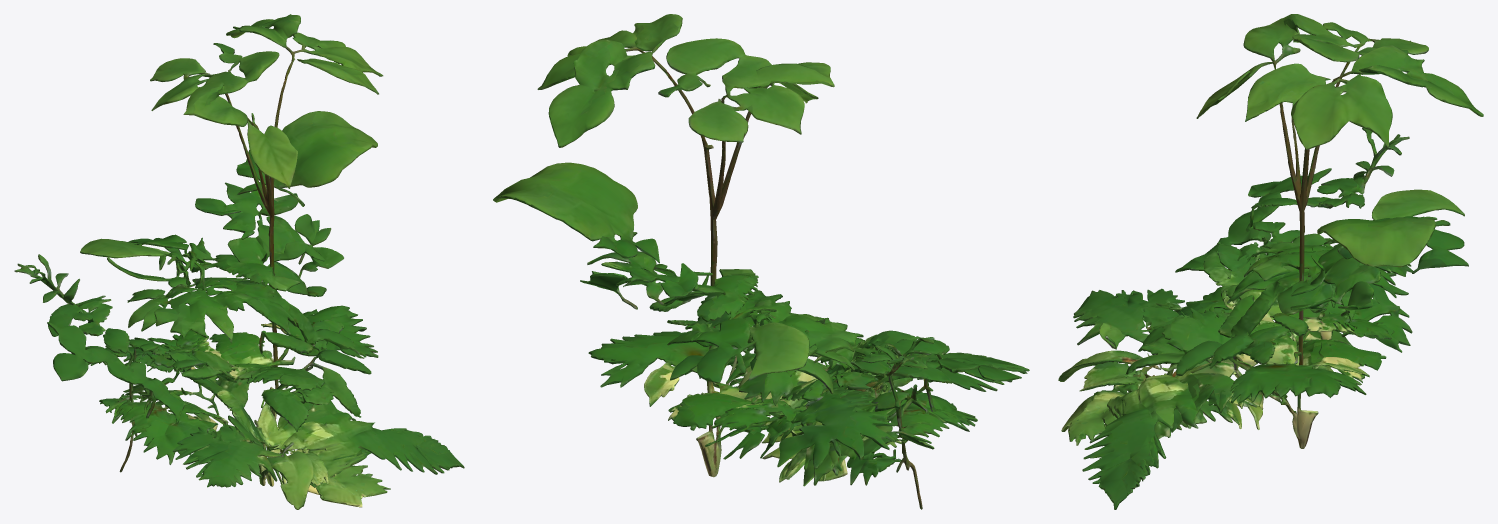
Rendered from fallen-log.glb.
3 views of the same model, side by side, from view 1: azimuth 30°, elevation 25°; view 2: azimuth 150°, elevation 25°; view 3: azimuth 270°, elevation 25° (orthographic). The views are drawn at different scales.
Parts seen in each view (by area): view 1: geometry_0; view 2: geometry_0; view 3: geometry_0.
Boxes of the visible parts, bbox=[...] form: geometry_0: bbox=[14, 14, 464, 509]; geometry_0: bbox=[493, 14, 1029, 509]; geometry_0: bbox=[1058, 14, 1483, 509].
Bounding box in the file's own units: 0.9214 × 0.8995 × 0.8279.
Materials: 1 (1 with a texture image).
